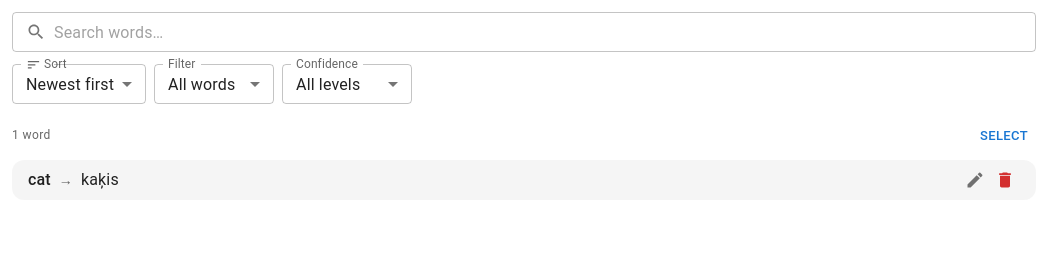
WordList › should show Delete button when items are selected
Step 1. Click the button "Select" → click(1004, 136), box [972,121,1036,151]
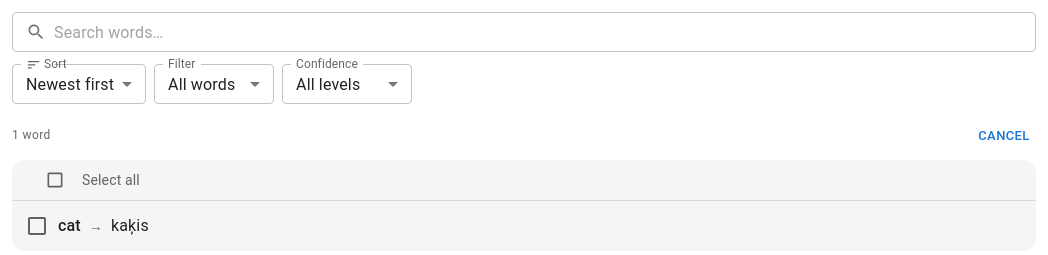
Note: Click the checkbox input directly
Step 2. Click the checkbox named "Select cat" → click(37, 226), box [25,214,49,238]
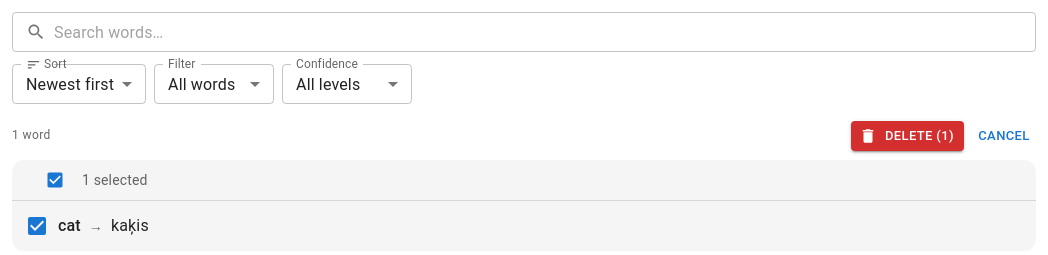
Check: the button "Delete (1)" is shown, box [851,121,964,151]
